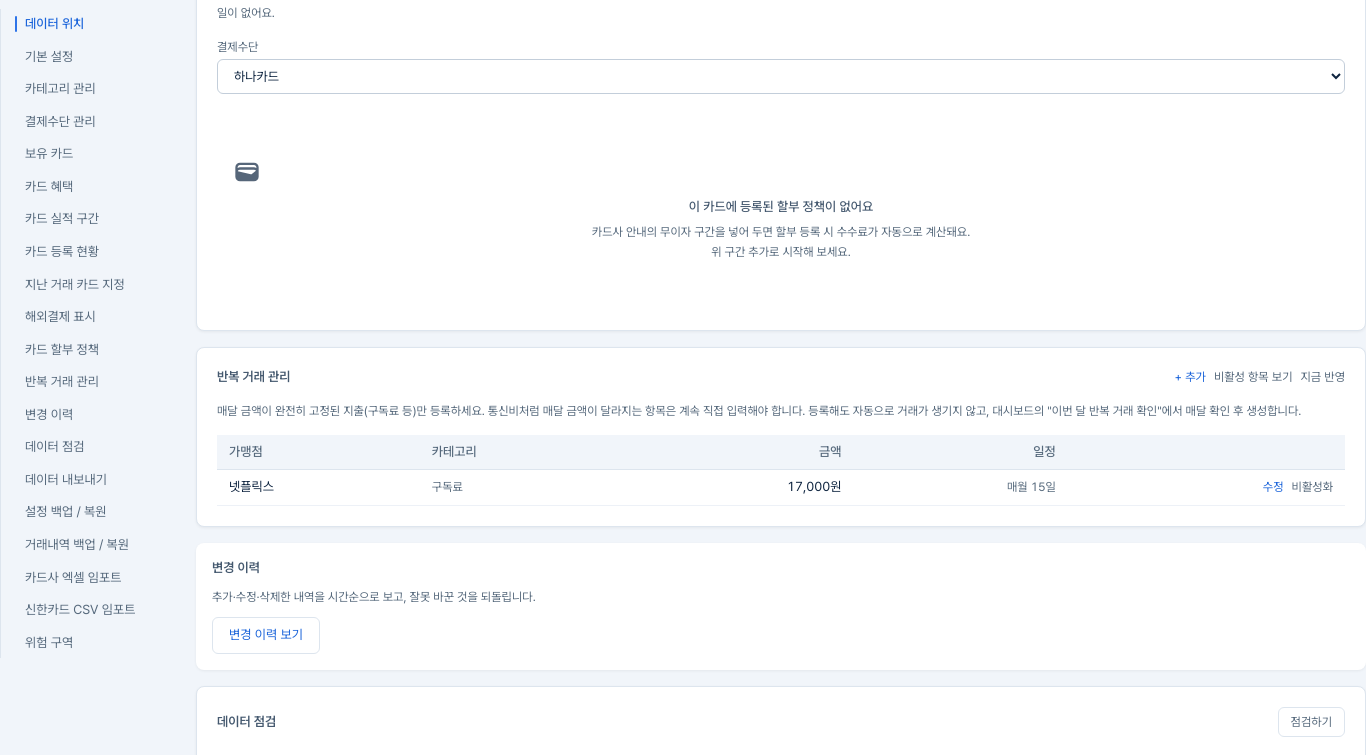
Test: 주기에 따라 달라지는 입력 › 추가 버튼이 폼을 열고, 그동안 취소로 바뀐다
This screenshot has width=1366, height=755.
(page scrolled)
Click the button "+ 추가". click: (1190, 377)
box: [1175, 369, 1206, 385]
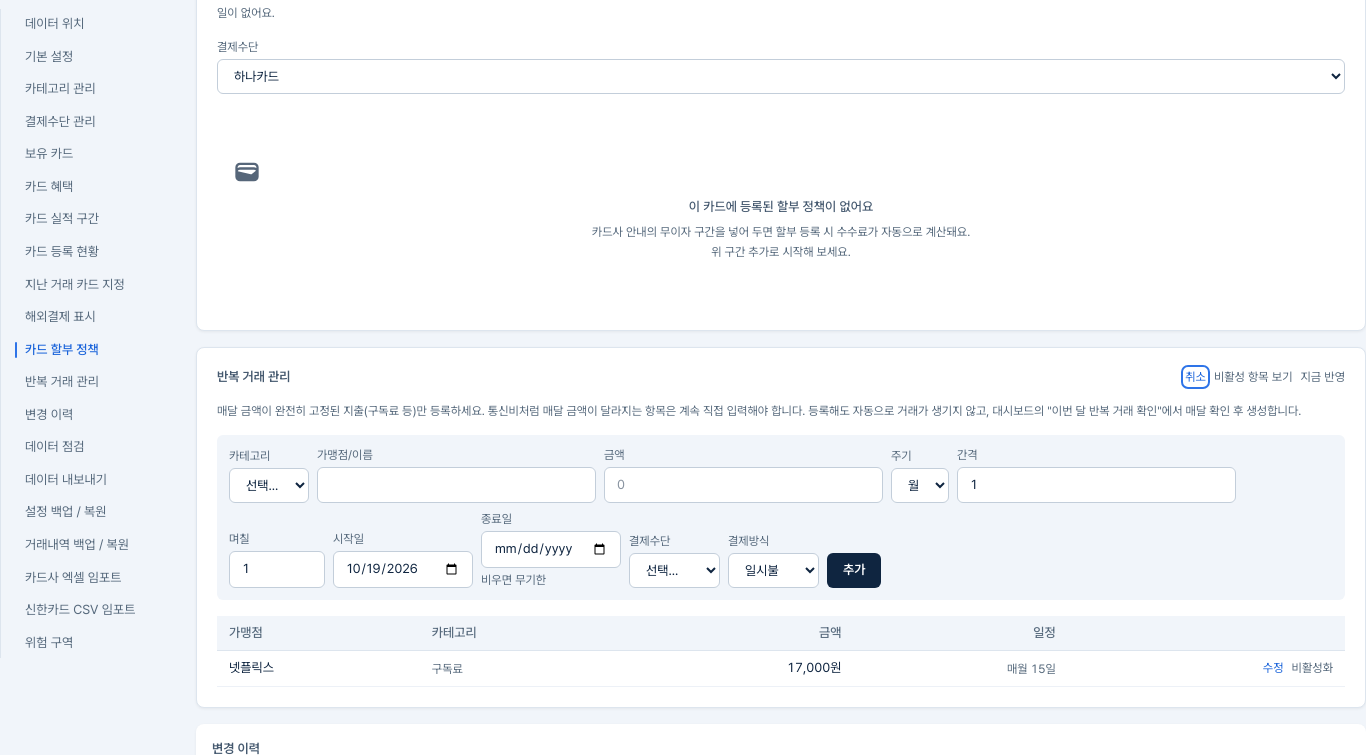
expect the field labelled "가맹점/이름" is shown: met, box [317, 467, 596, 503]
Click the button "취소". click: (1196, 377)
box: [1185, 369, 1206, 385]
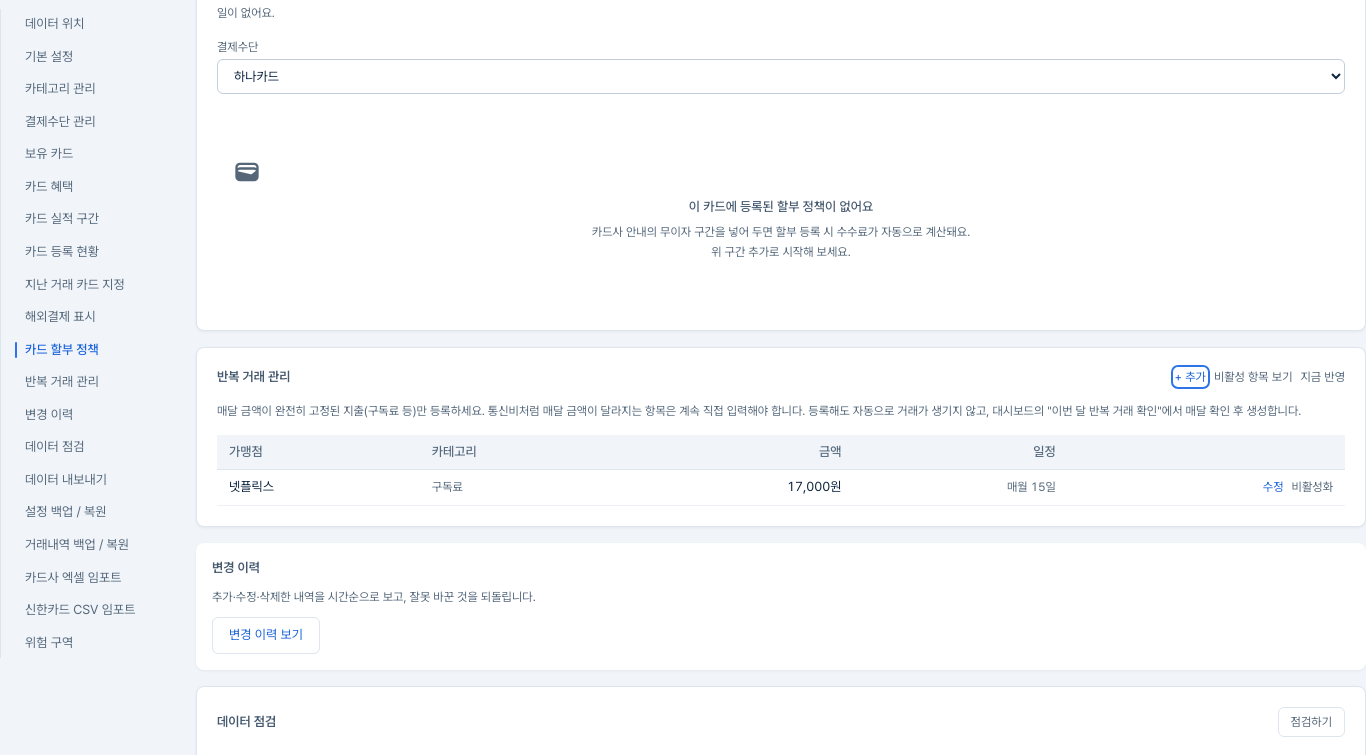
expect the label labelled "가맹점/이름" is gone: met
